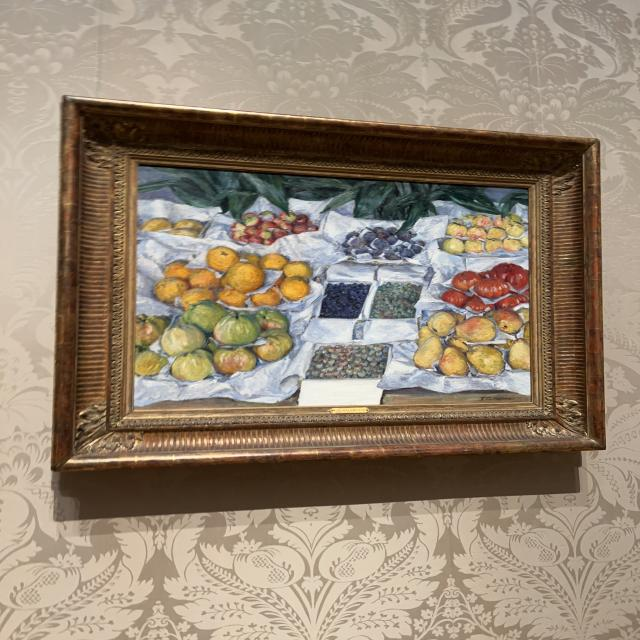fruits: (137, 170, 526, 406)
